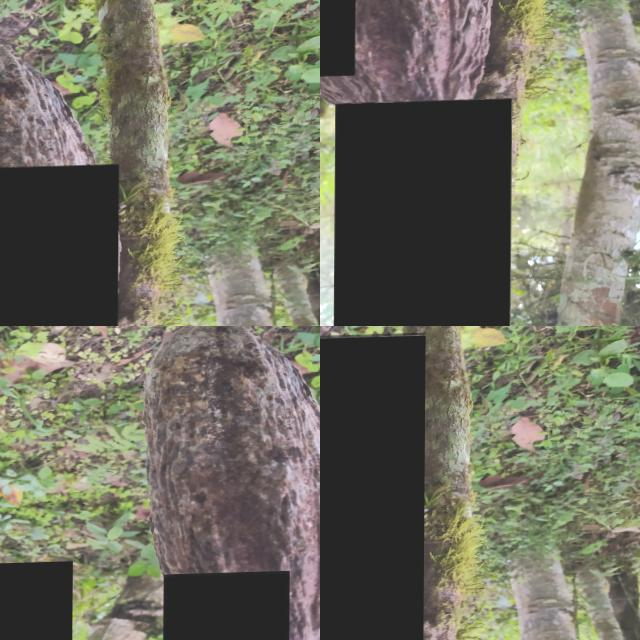Fitoftora: (320, 335, 425, 640), (162, 573, 290, 640)
Monilia: (0, 166, 118, 326)
Sana: (334, 100, 512, 326), (320, 0, 355, 78)
